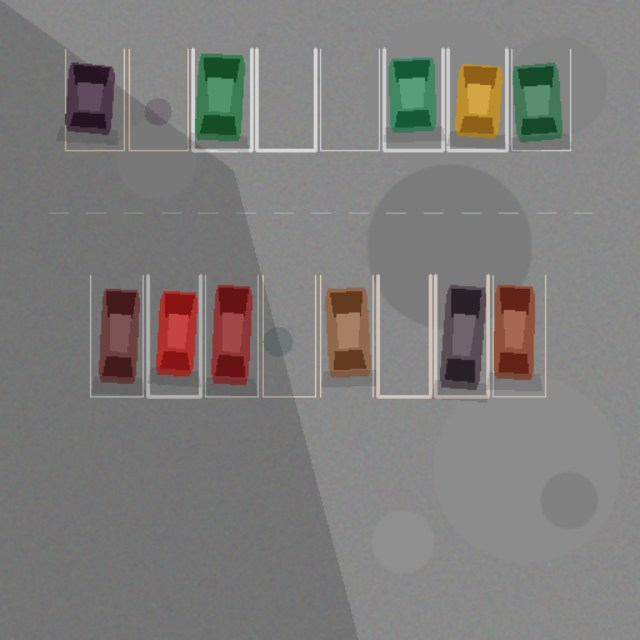space-empty: (377, 275, 430, 396), (263, 275, 315, 396), (256, 49, 315, 150), (320, 49, 379, 150), (129, 49, 187, 150)
space-occupied: (90, 275, 143, 396), (147, 275, 200, 396), (320, 275, 373, 396), (205, 275, 257, 396), (435, 275, 487, 396), (493, 275, 545, 396), (65, 49, 124, 150), (384, 49, 443, 150), (447, 49, 506, 150), (511, 49, 570, 150), (193, 49, 251, 150)
